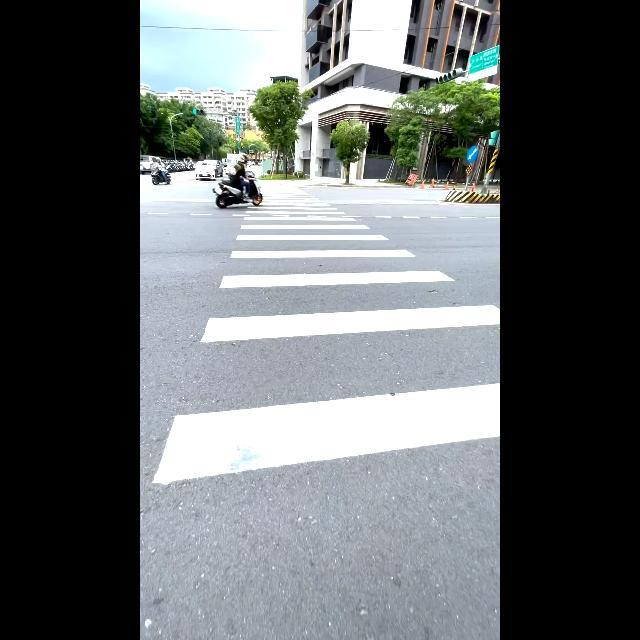sidewalk: (140, 184, 500, 640)
